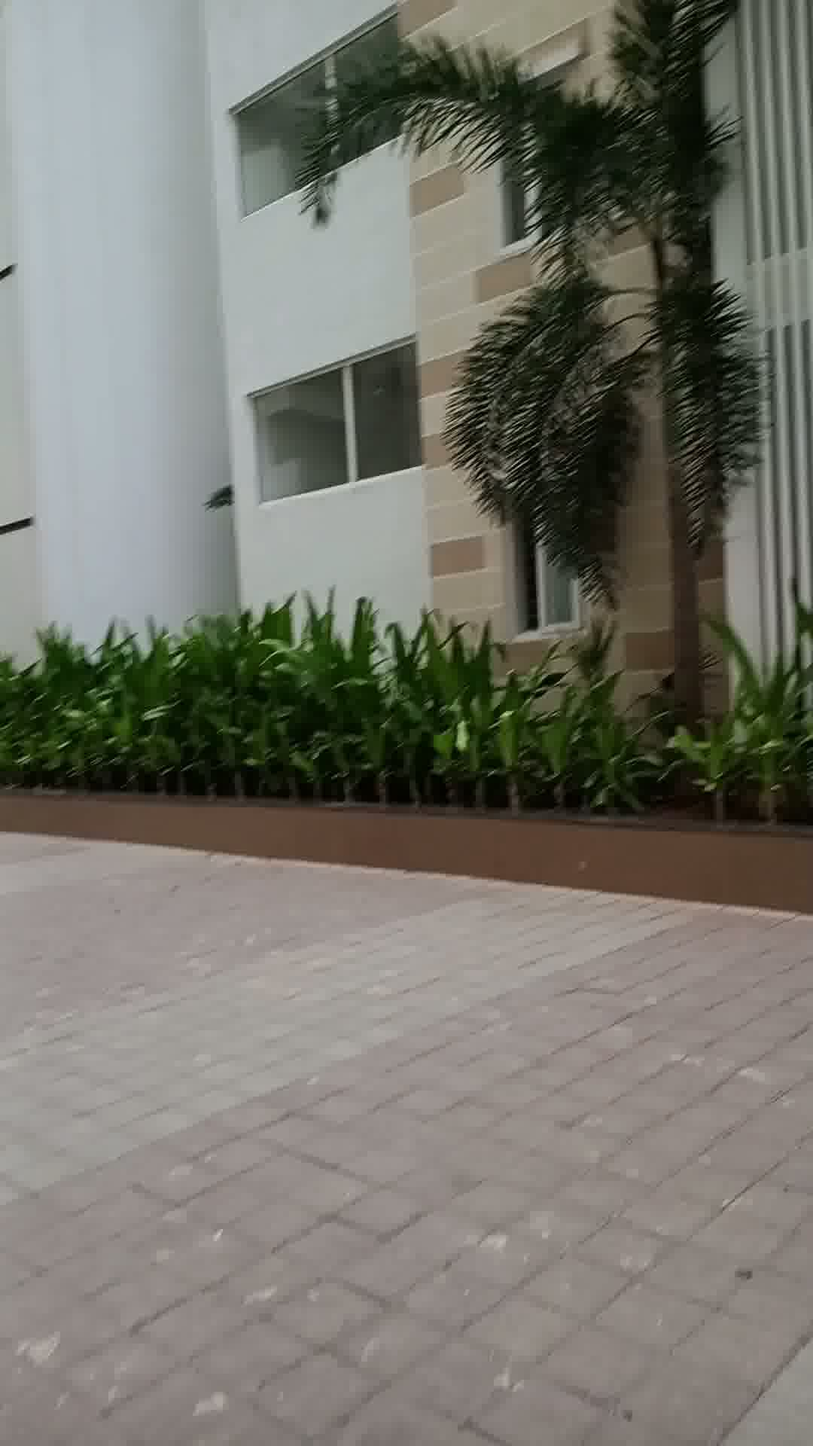tree: (233, 3, 813, 749)
